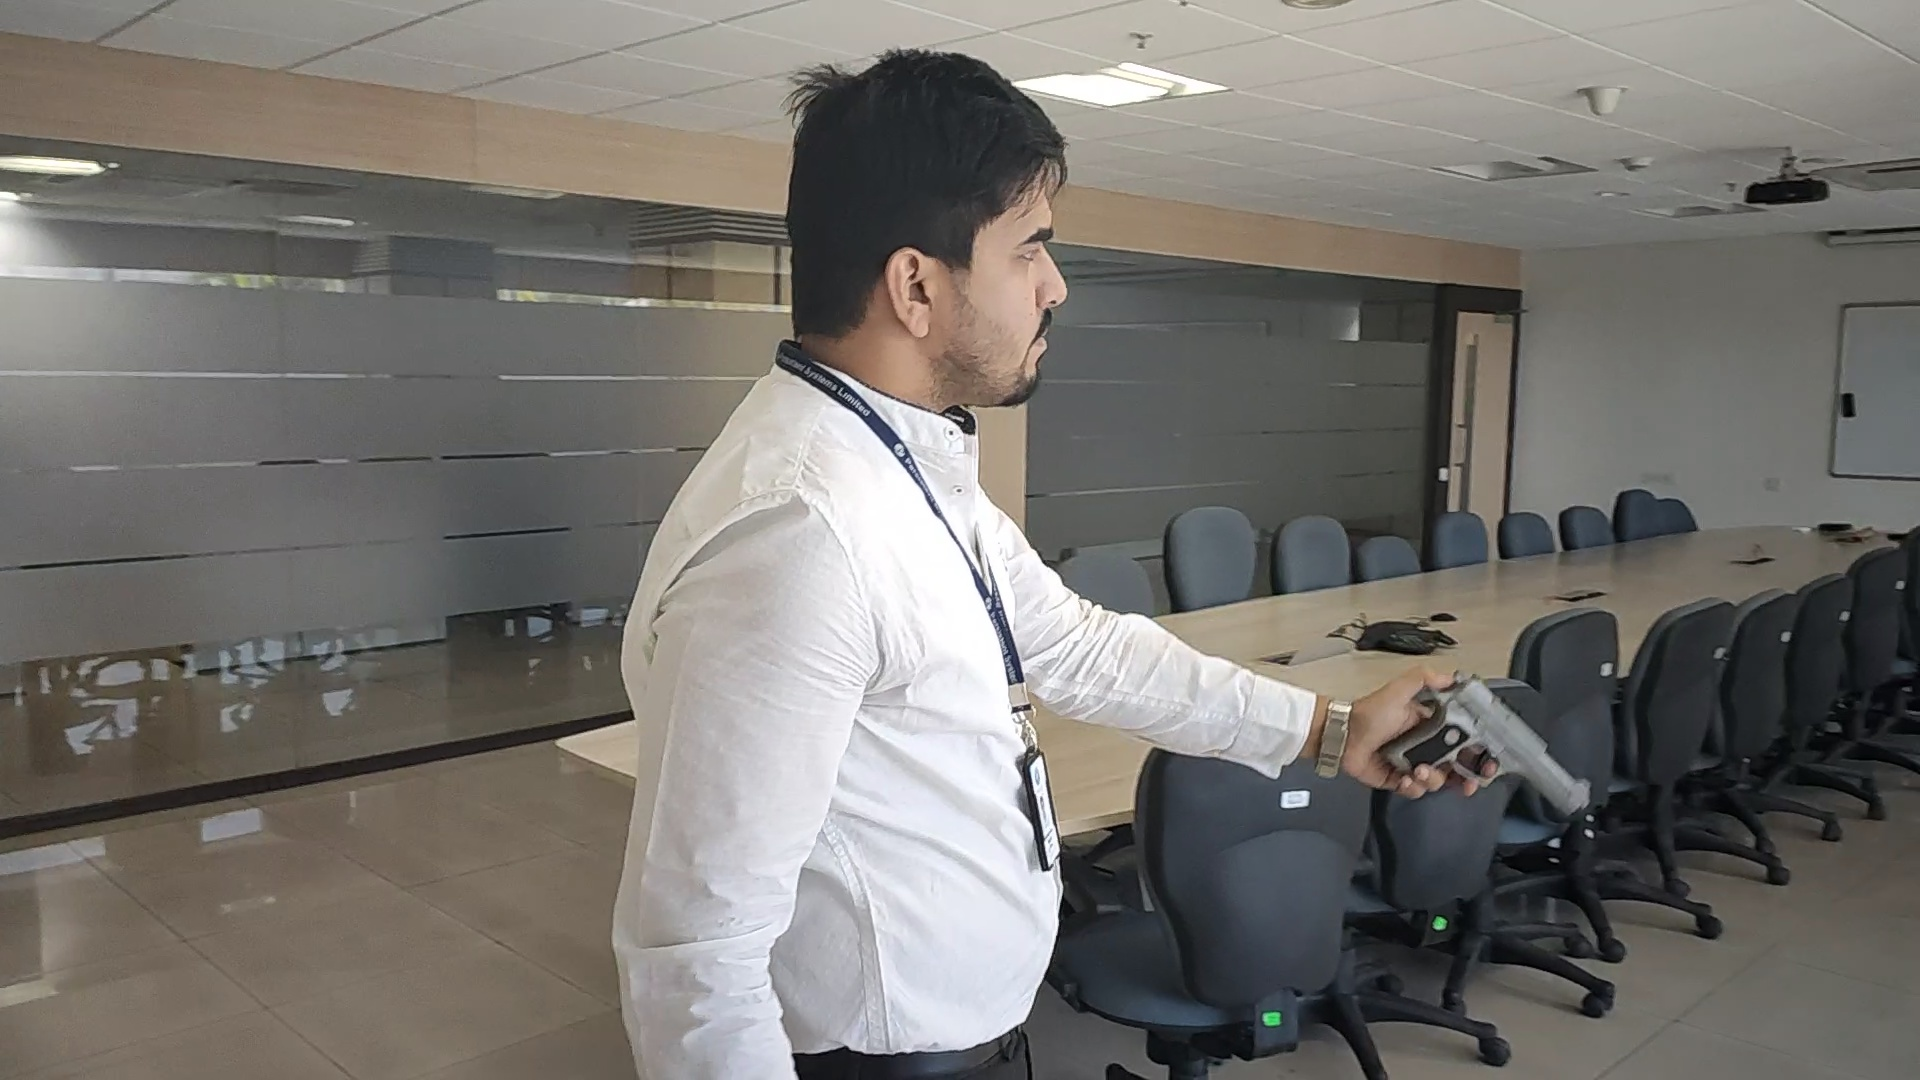gun: (1389, 675, 1594, 800)
